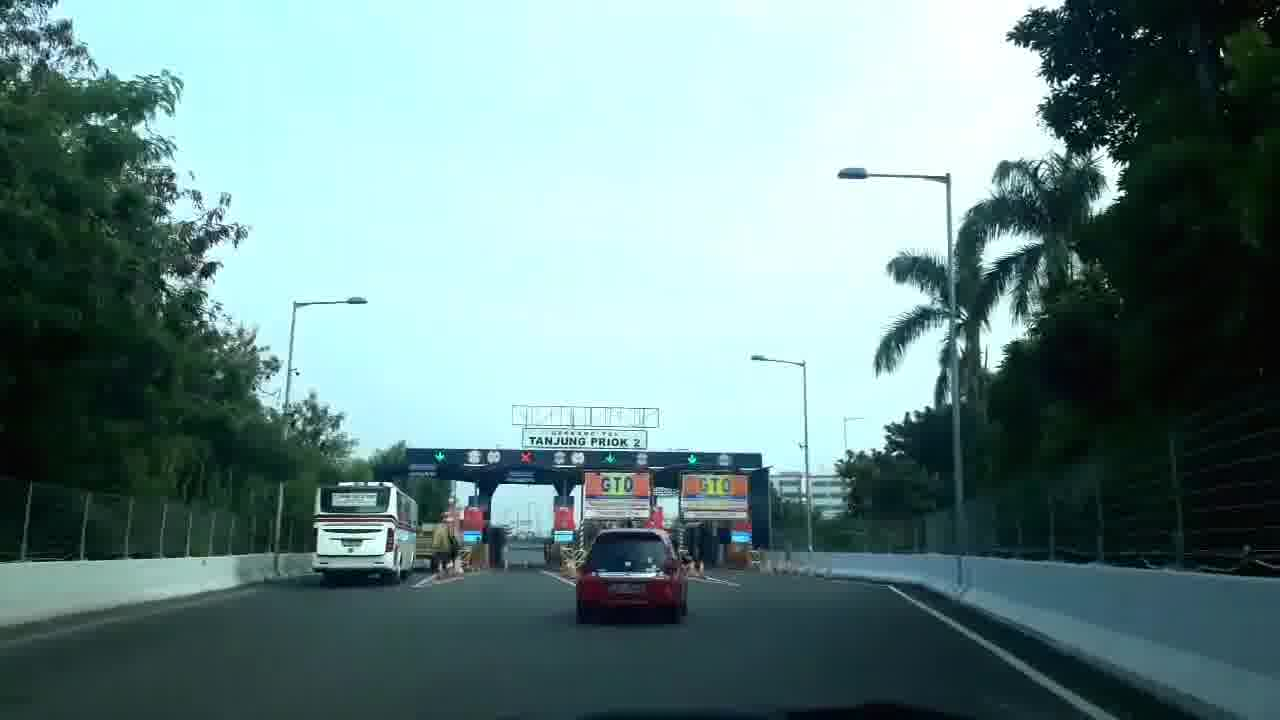plate_positive: (608, 582, 644, 593)
